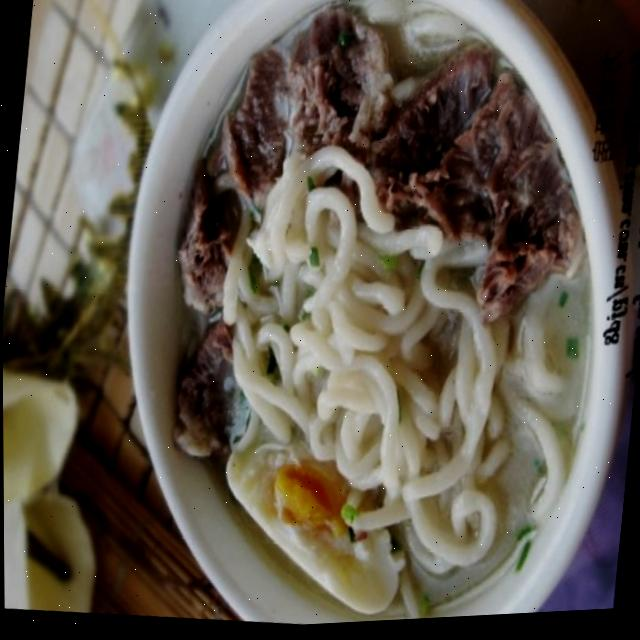面条主食: (79, 0, 640, 637)
